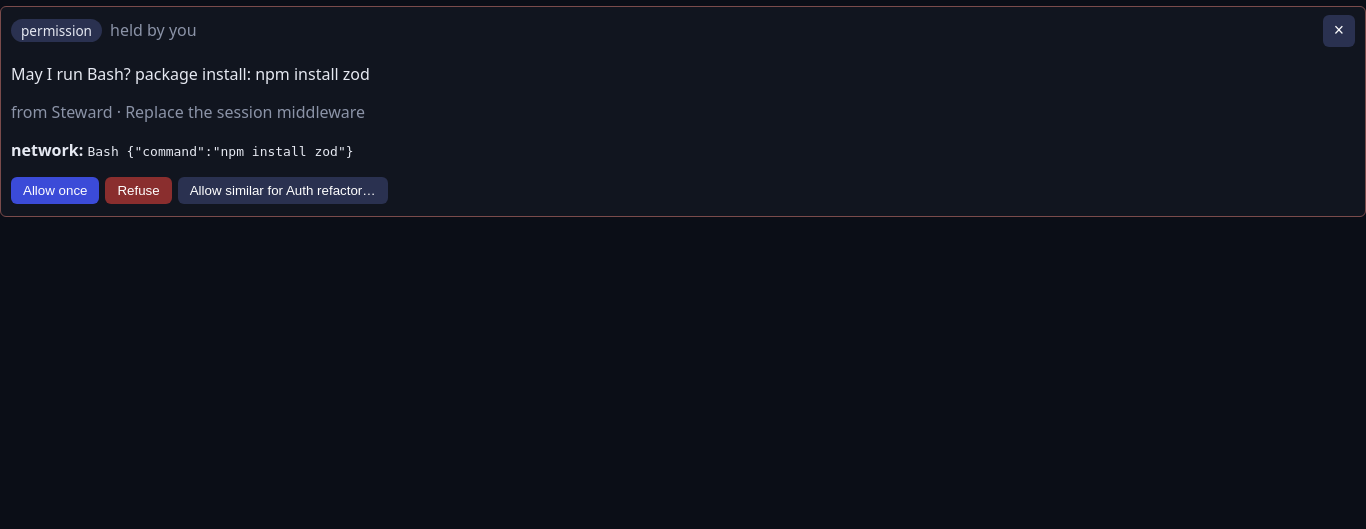
the permission card’s "Allow similar" (P9-17) › says so when the request was allowed once but the rule was not stored (review S6)
Step 1. Click the button "Allow similar for Auth refactor…" → coordinates (283, 190), box [178, 177, 388, 204]
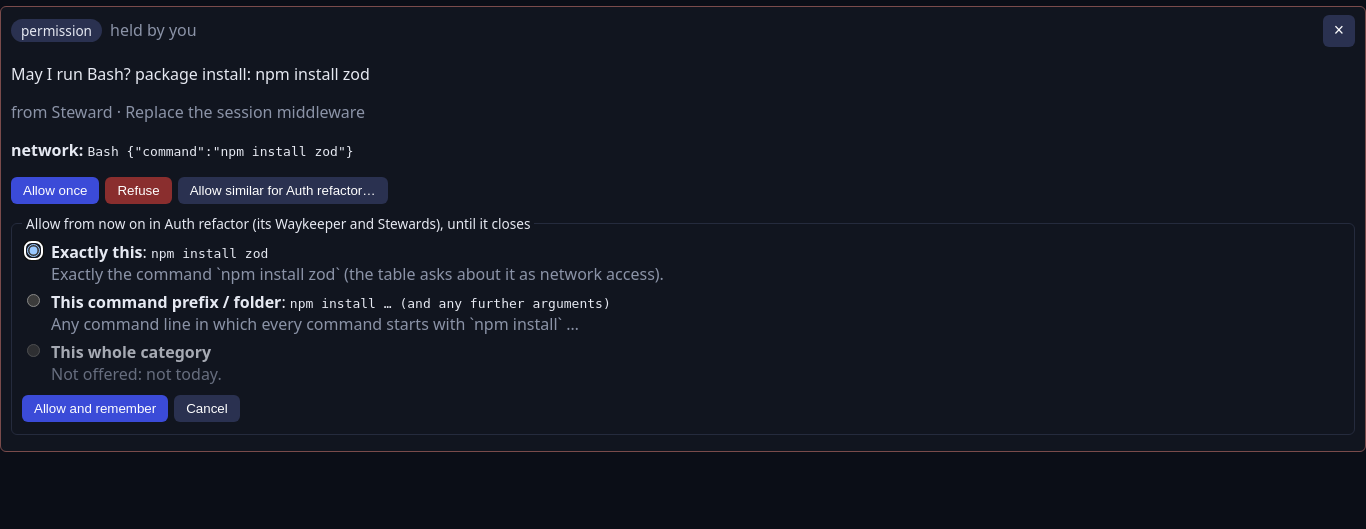
Step 2. Click the button "Allow and remember" → coordinates (95, 408), box [22, 395, 168, 422]
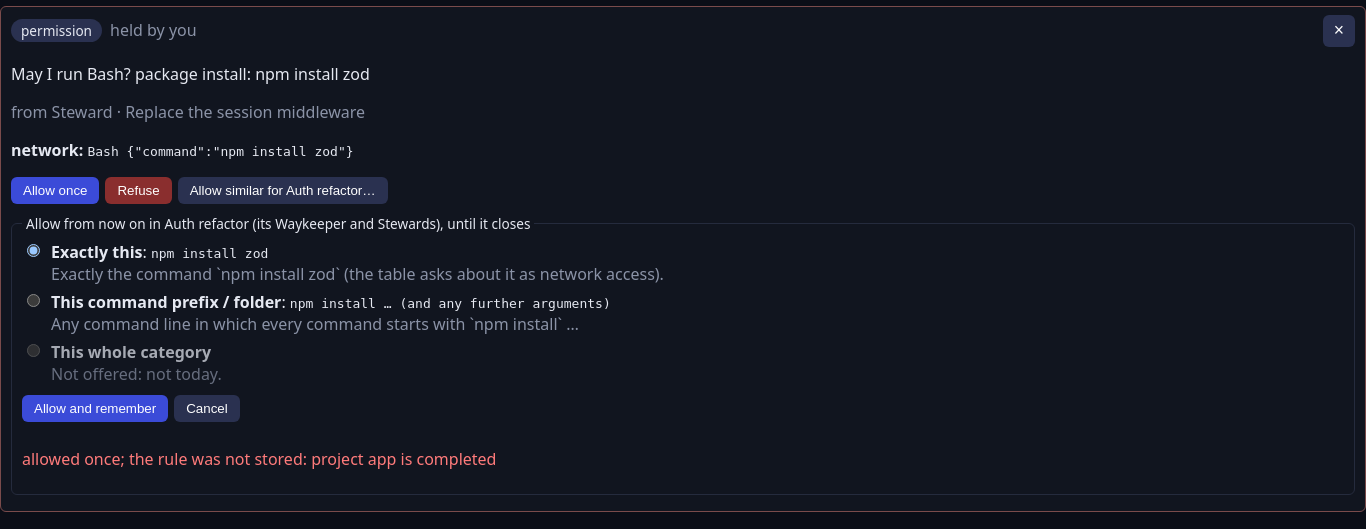
Now the element "Allow from now on" shows "allowed once; the rule was not stored", box [22, 448, 496, 470]
